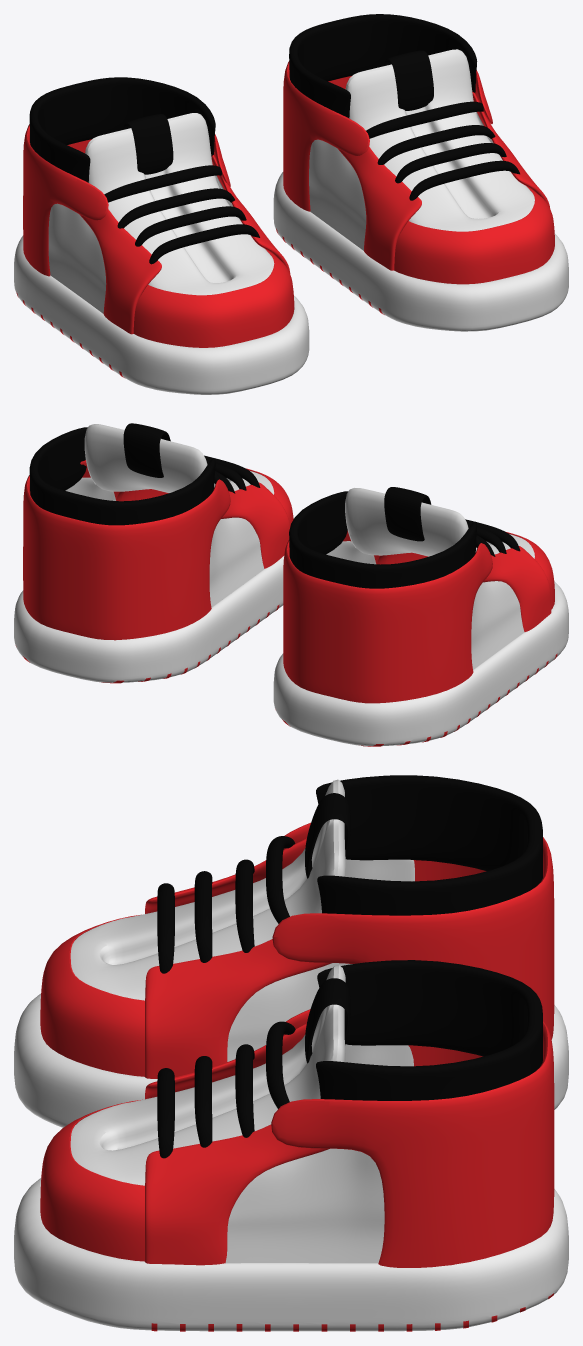
File: Shoes.fbx
The picture shows the model from 3 angles, top to bottom: view 1: azimuth 30°, elevation 25°; view 2: azimuth 150°, elevation 25°; view 3: azimuth 270°, elevation 25°; orthographic projection. The views are drawn at different scales.
Parts seen in each view (by area): view 1: Render.001, Render.002; view 2: Render.002, Render.001; view 3: Render.001, Render.002.
Boxes of the visible parts, left/top/right/bottom form: Render.001: left=273, top=14, right=568, bottom=331; Render.002: left=14, top=77, right=309, bottom=394; Render.002: left=273, top=487, right=568, bottom=746; Render.001: left=14, top=423, right=294, bottom=683; Render.001: left=14, top=960, right=568, bottom=1331; Render.002: left=14, top=775, right=568, bottom=1127.
Size of the model in its own units: 21.54 by 9.22 by 16.24.
